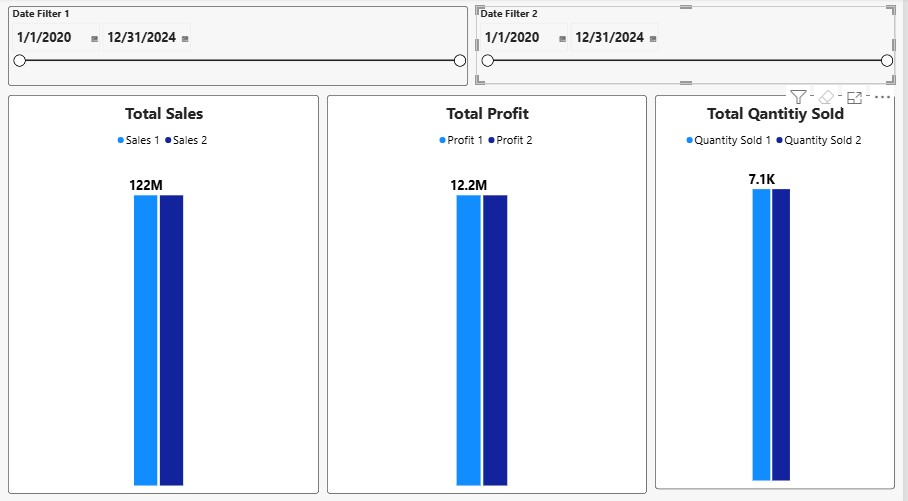

This screenshot's page, from the dashboard's own definition file:
{"tool":"powerbi","page":{"name":"Comparisions Sales/Quantity/Profit","canvas":[1920,1080],"ordinal":2},"visuals":[{"type":"slicer","fields":{"Values":["Date Table 1.Date"]},"box":[19.1,17,978,170.1],"z":0},{"type":"slicer","fields":{"Values":["Date Table 2.Date"]},"box":[1014.1,17,890.8,165.8],"z":1},{"type":"clusteredColumnChart","title":"Total Sales","fields":{"Y":["Sum(Fact Table.Net Sales)","Date Table 1.Sum of Net Sales"]},"box":[19.1,206.2,661.2,848.3],"z":2},{"type":"clusteredColumnChart","title":"Total Profit","fields":{"Y":["Sum(Fact Table.Profit)","Mesures Table.Total Profit"]},"box":[697.3,206.2,680.3,848.3],"z":3},{"type":"clusteredColumnChart","title":"Total Qantitiy Sold","fields":{"Y":["Sum(Fact Table.Units Sold)","Mesures Table.Quantity Sold"]},"box":[1394.6,206.2,510.2,837.6],"z":4}]}

Visuals, with their boxes in screenshot pixels (x1, y1, x2, y2), scaled from the page's 1920x1080 canvas onto the 908x501 screenshot:
slicer - Date Table 1.Date: detection(9, 8, 472, 87)
slicer - Date Table 2.Date: detection(480, 8, 901, 85)
"Total Sales" clusteredColumnChart: detection(9, 96, 322, 489)
"Total Profit" clusteredColumnChart: detection(330, 96, 651, 489)
"Total Qantitiy Sold" clusteredColumnChart: detection(660, 96, 901, 484)
